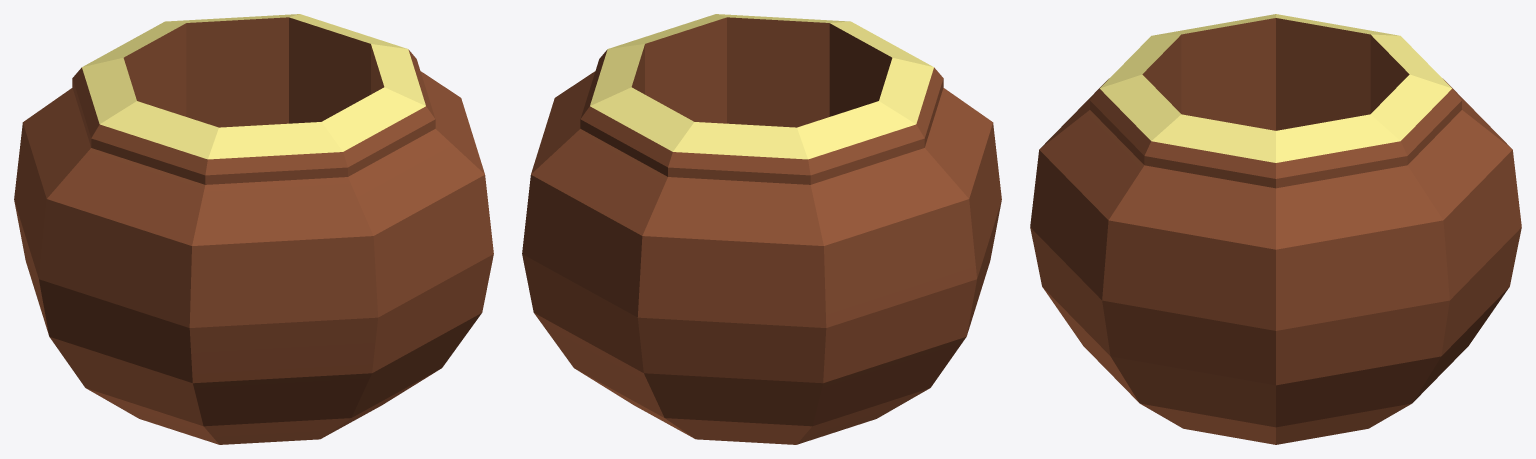
Rendered from Pot 1.001.fbx.
3 views of the same model, side by side, from view 1: azimuth 30°, elevation 25°; view 2: azimuth 150°, elevation 25°; view 3: azimuth 270°, elevation 25° (orthographic).
Visible parts, largest first — view 1: Pot 1.001; view 2: Pot 1.001; view 3: Pot 1.001.
Part boxes in pixels (x1,y1,x2,y2): Pot 1.001: (14,14,493,444); Pot 1.001: (522,14,1001,444); Pot 1.001: (1030,14,1521,444).
Size of the model in its own units: 64.65 by 45.72 by 64.65.
